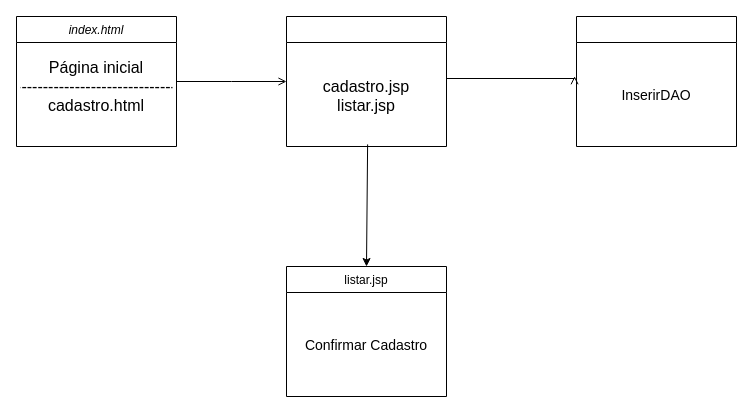
Some shapes in this 753 by 413 pixel diagram are drawn without their labels. The shapes that lost their labels are listed below. From the top down, each one's box as (x1, y1, x2, y2) in pixels, then its label:
(286, 16, 446, 146): cadastro.html
(576, 16, 736, 146): cadastro.jsp
